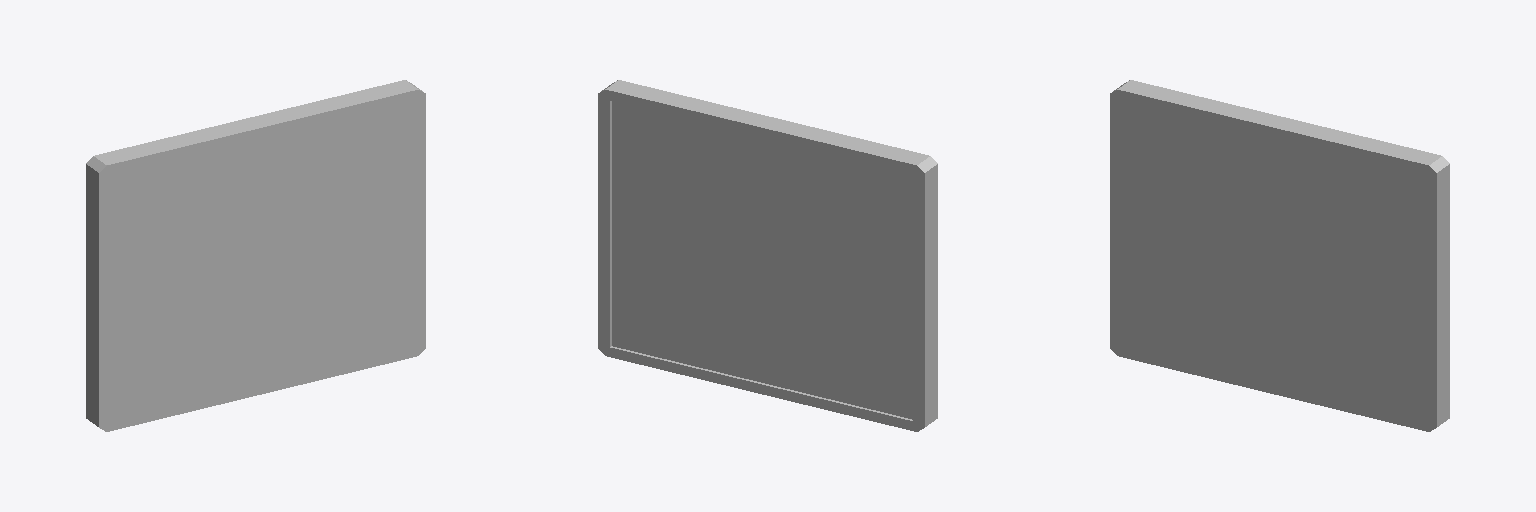
File: WallMonitor.obj
3 renders of one model, left to right at view 1: azimuth 30°, elevation 25°; view 2: azimuth 150°, elevation 25°; view 3: azimuth 330°, elevation 25°, orthographic.
Visible parts, largest first — view 1: Cube.001; view 2: Cube.002, Cube.001; view 3: Cube.001.
Part boxes in pixels (left/top/right/bottom): Cube.001: left=86, top=80, right=425, bottom=431; Cube.002: left=612, top=101, right=912, bottom=419; Cube.001: left=598, top=80, right=937, bottom=431; Cube.001: left=1110, top=80, right=1449, bottom=431.
Bounding box in the file's own units: 0.1992 × 0.1554 × 0.0141.